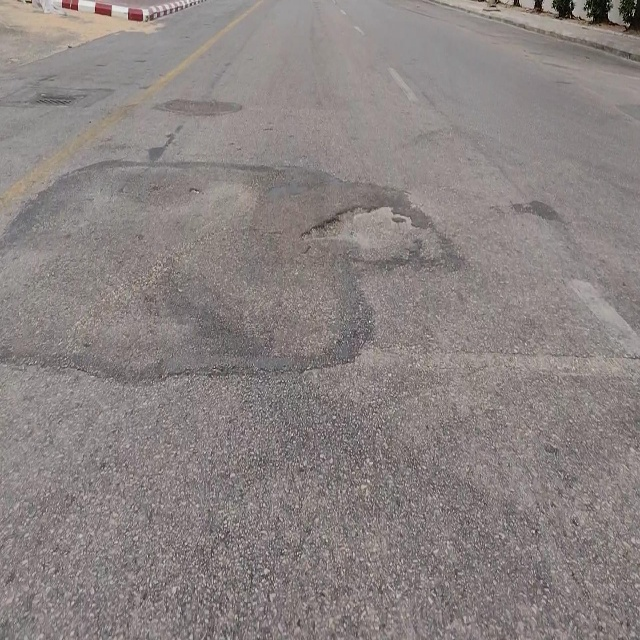pothole: (302, 200, 431, 260)
